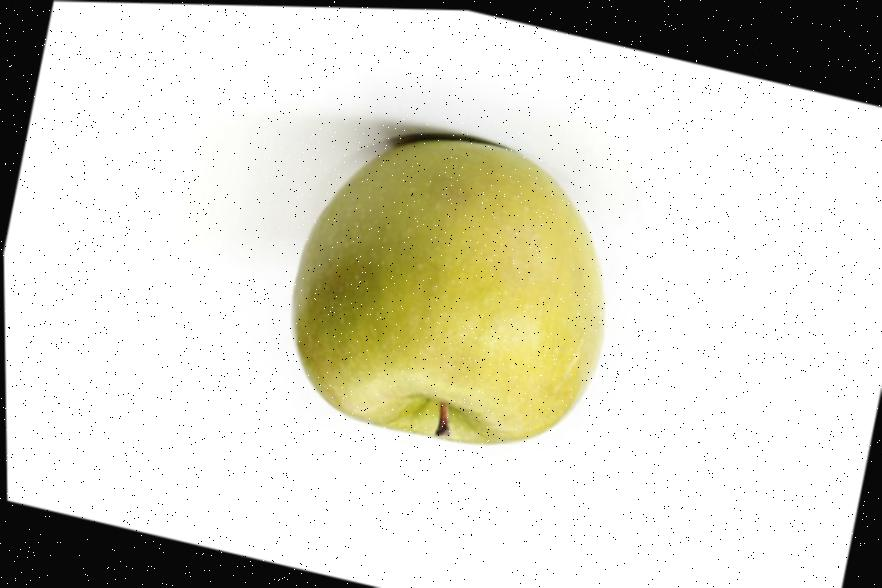HEALTHY: (226, 92, 663, 497)
